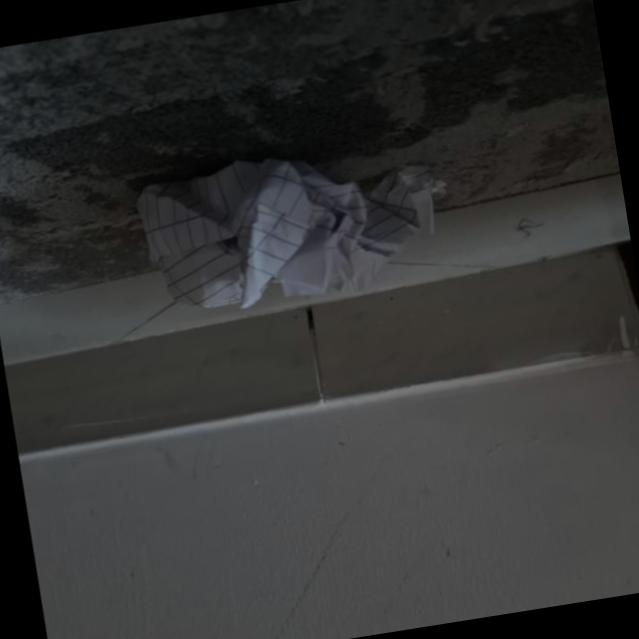cardboard paper: (138, 159, 434, 307)
